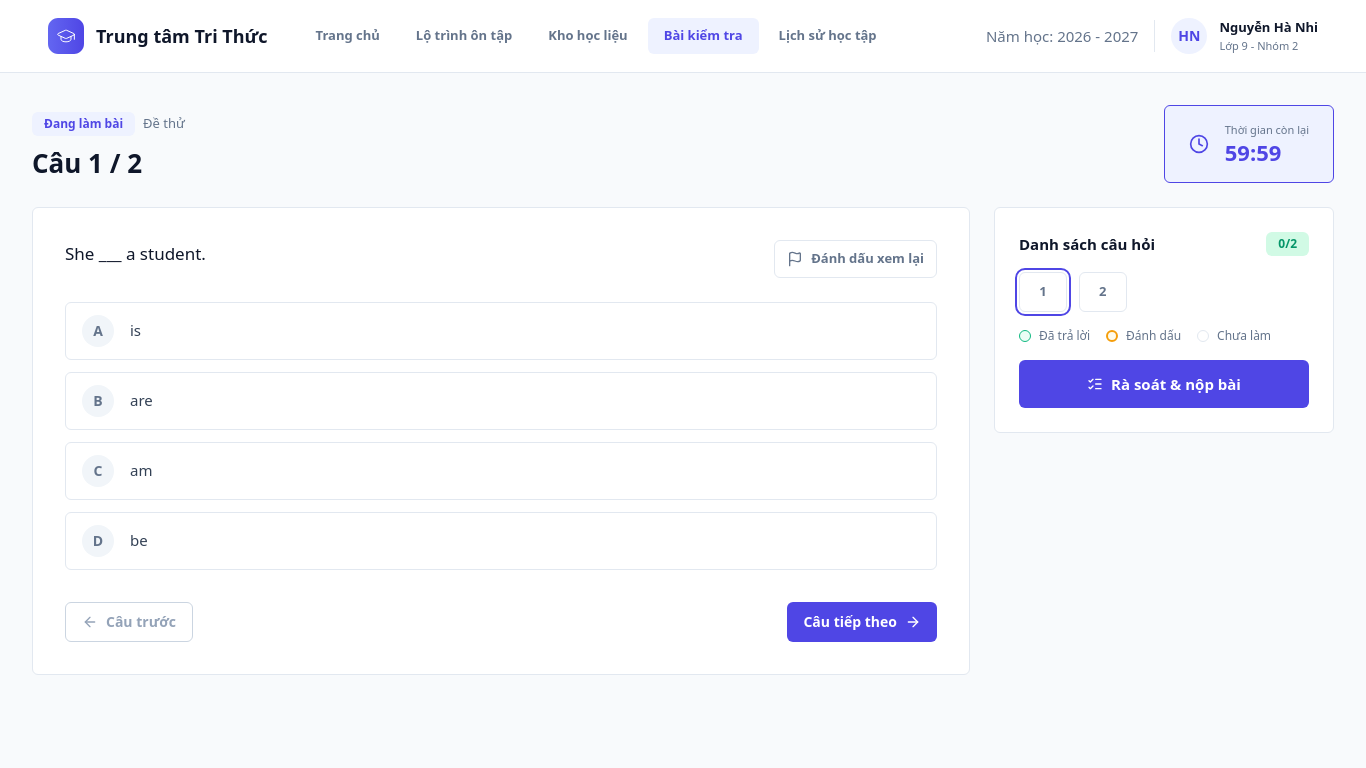
làm bài, rà soát, nộp: câu bỏ trống gửi null và chuyển sang màn nộp thành công
The width and height of the screenshot is (1366, 768).
Click the radio button labelled "A is". click: coordinates (98, 330)
box: [65,302,937,360]
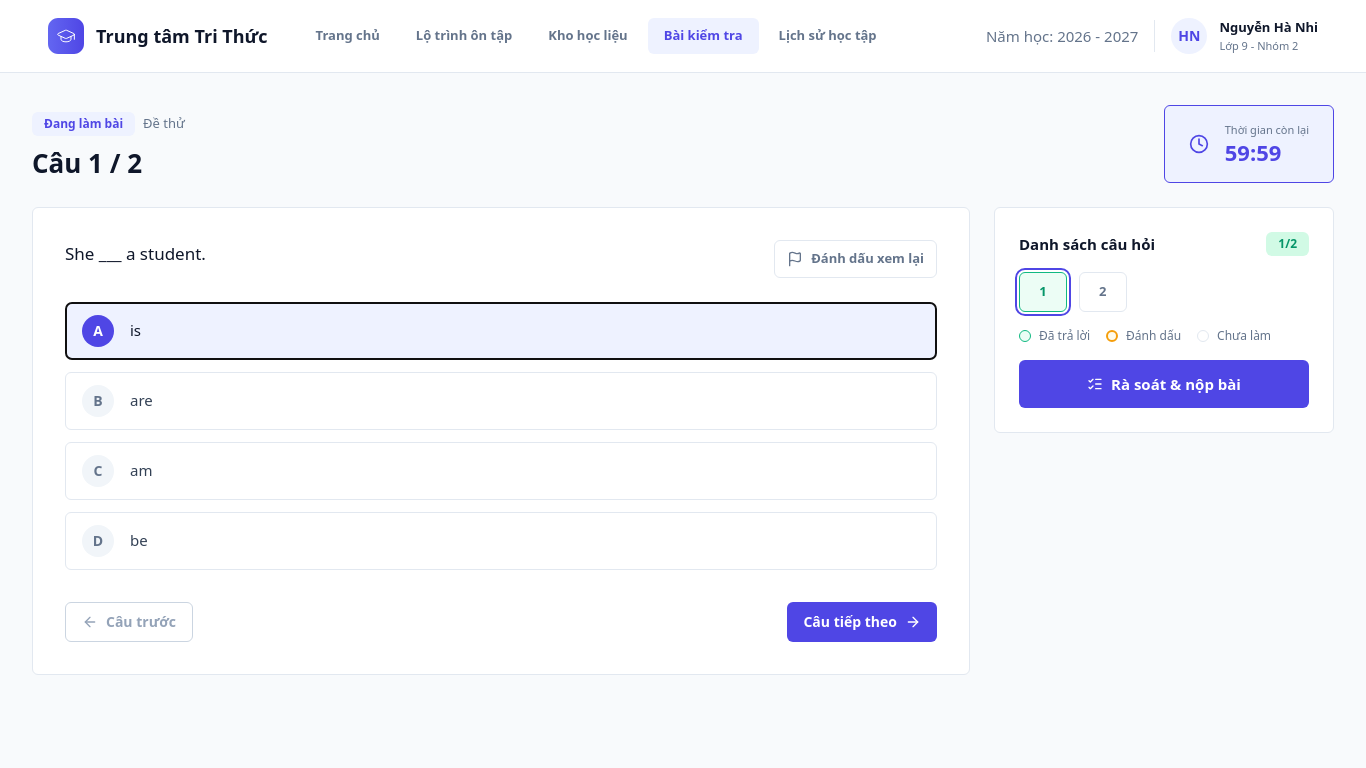
Click the button "Đánh dấu xem lại". click: coordinates (856, 259)
box: [774,240,937,278]
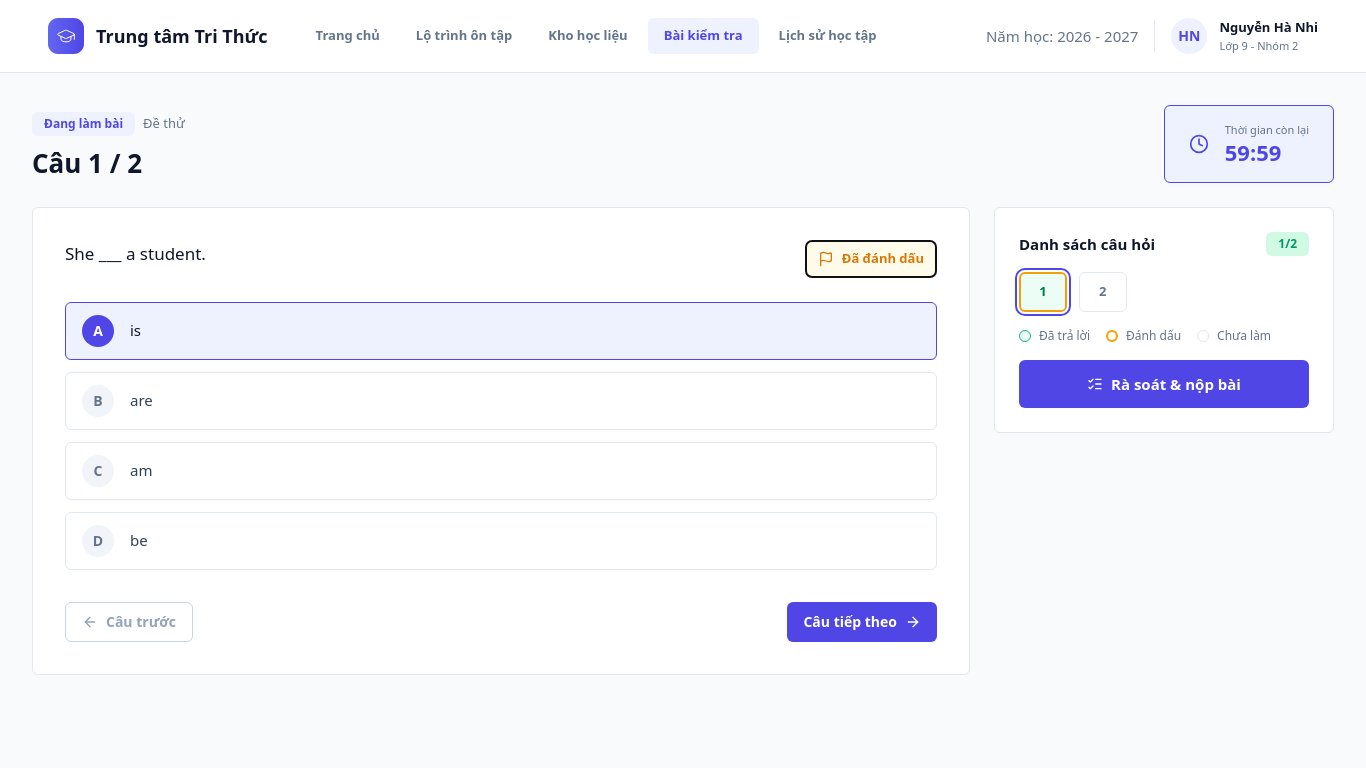
Click the button "Rà soát & nộp bài". click: coordinates (1164, 384)
box: [1019,360,1309,408]
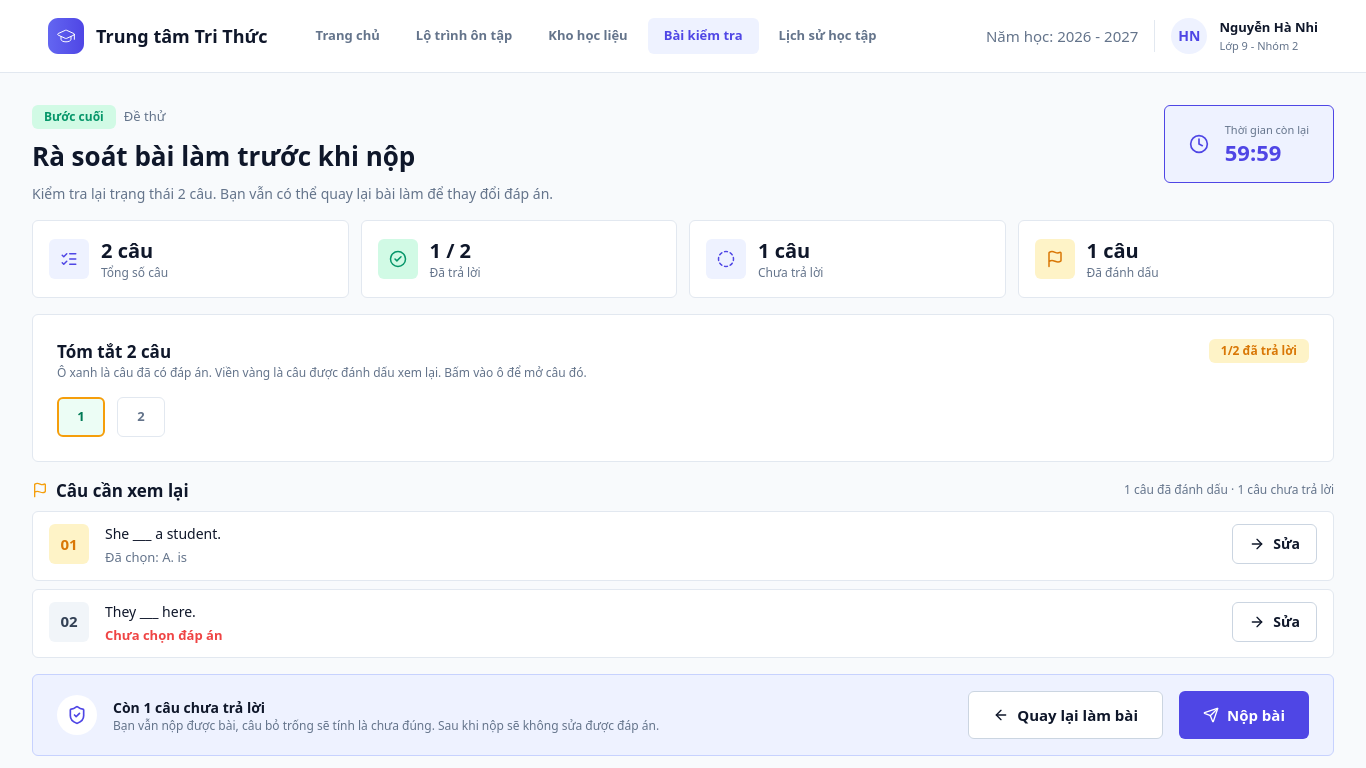
Expected: the text "She ___ a student." is shown, [105,524,221,543]
Now the text "Còn 1 câu chưa trả lời" is shown, box [113,698,265,716]
Click the button "Nộp bài". click: coordinates (1244, 715)
box: [1179,691,1309,739]
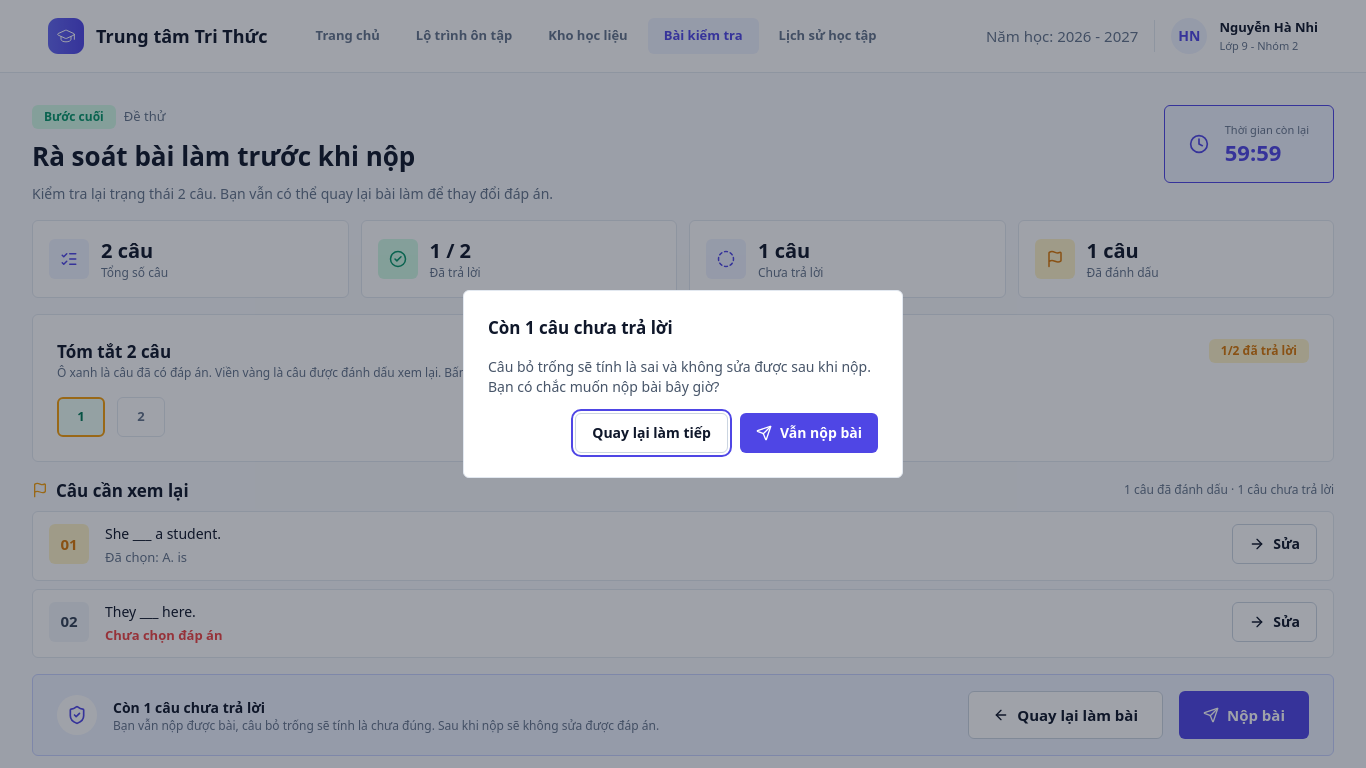
Now the dialog shows "Còn 1 câu chưa trả lời", box [463,290,903,478]
Double-click the button "Vẫn nộp bài" at coordinates (809, 433), box [740,413,878,453]
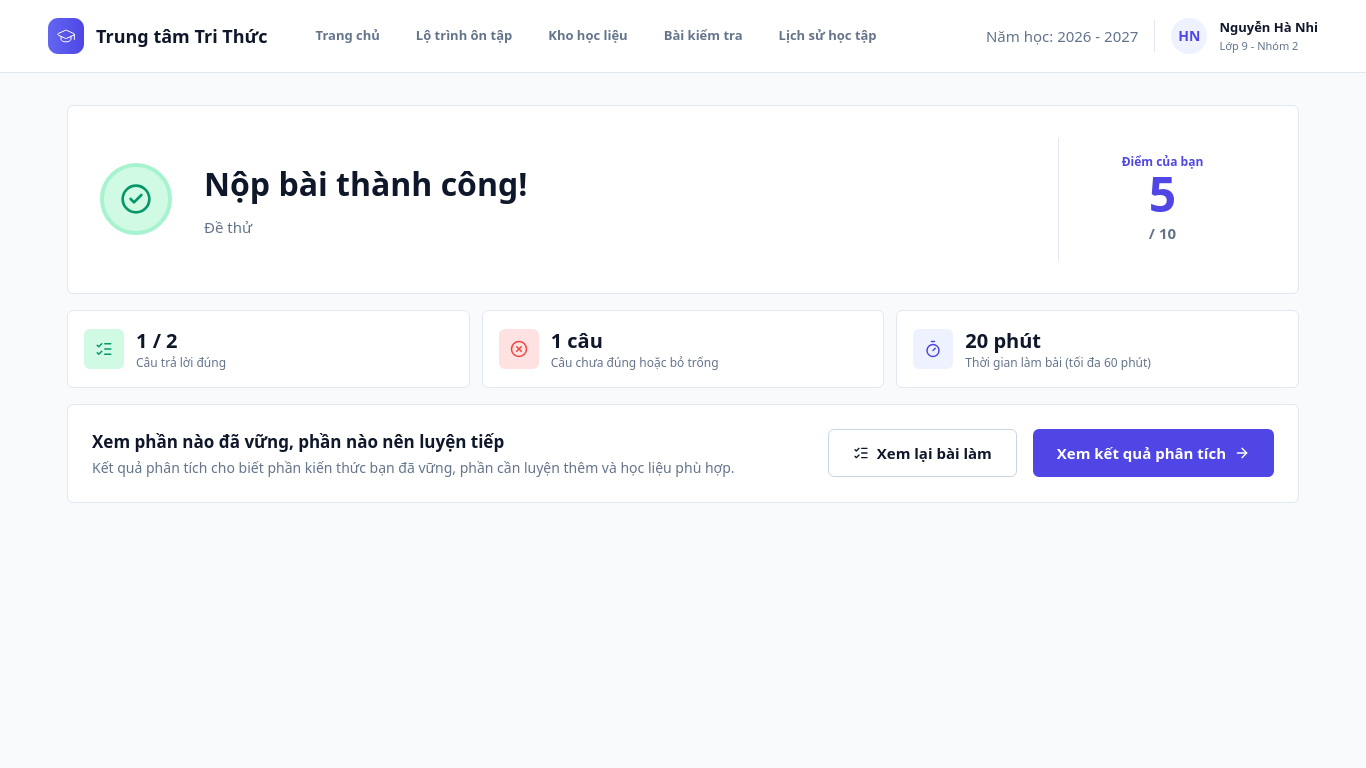
Now the heading "Nộp bài thành công!" is shown, box [204,162,527,205]
